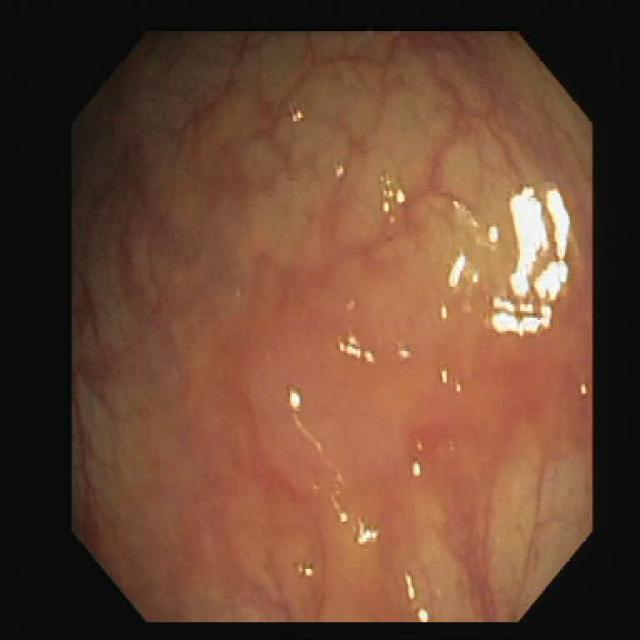tumor: (243, 287, 423, 498)
